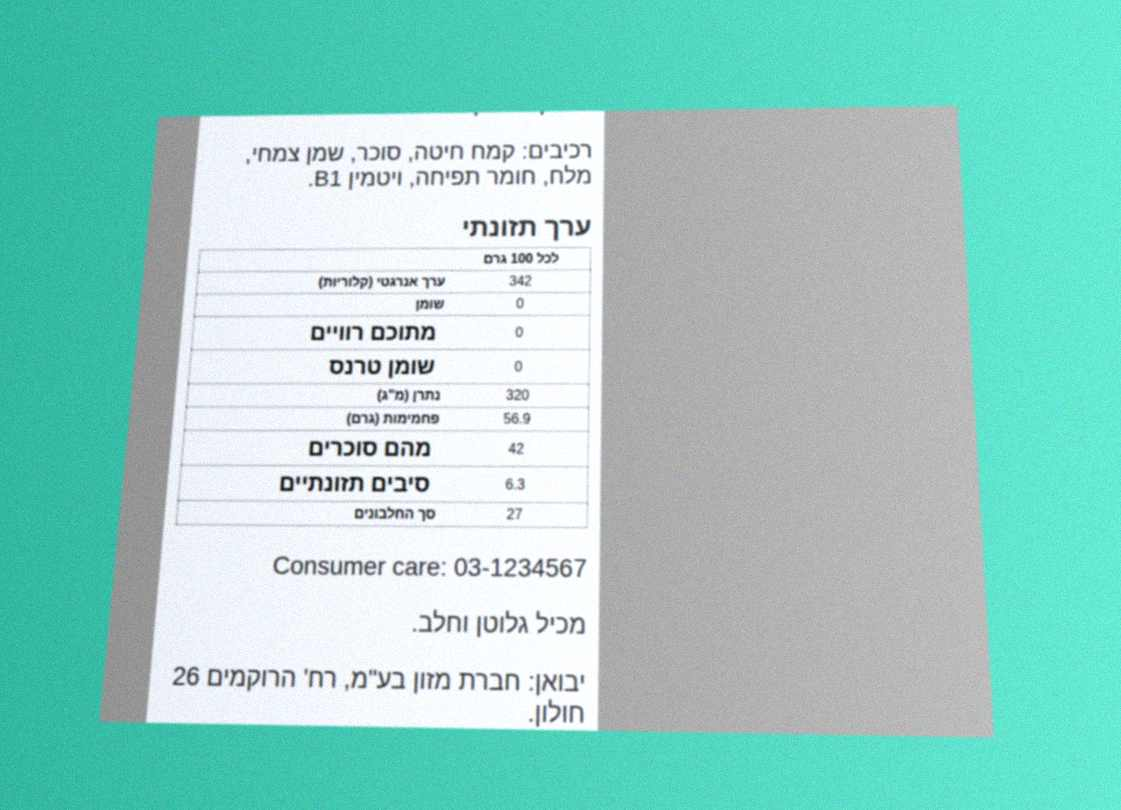carbs: (501, 409, 532, 428)
energy: (507, 272, 534, 290)
fat: (514, 295, 526, 312)
protein: (504, 505, 524, 524)
